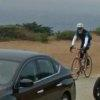Bicycle: (63, 41, 92, 83)
